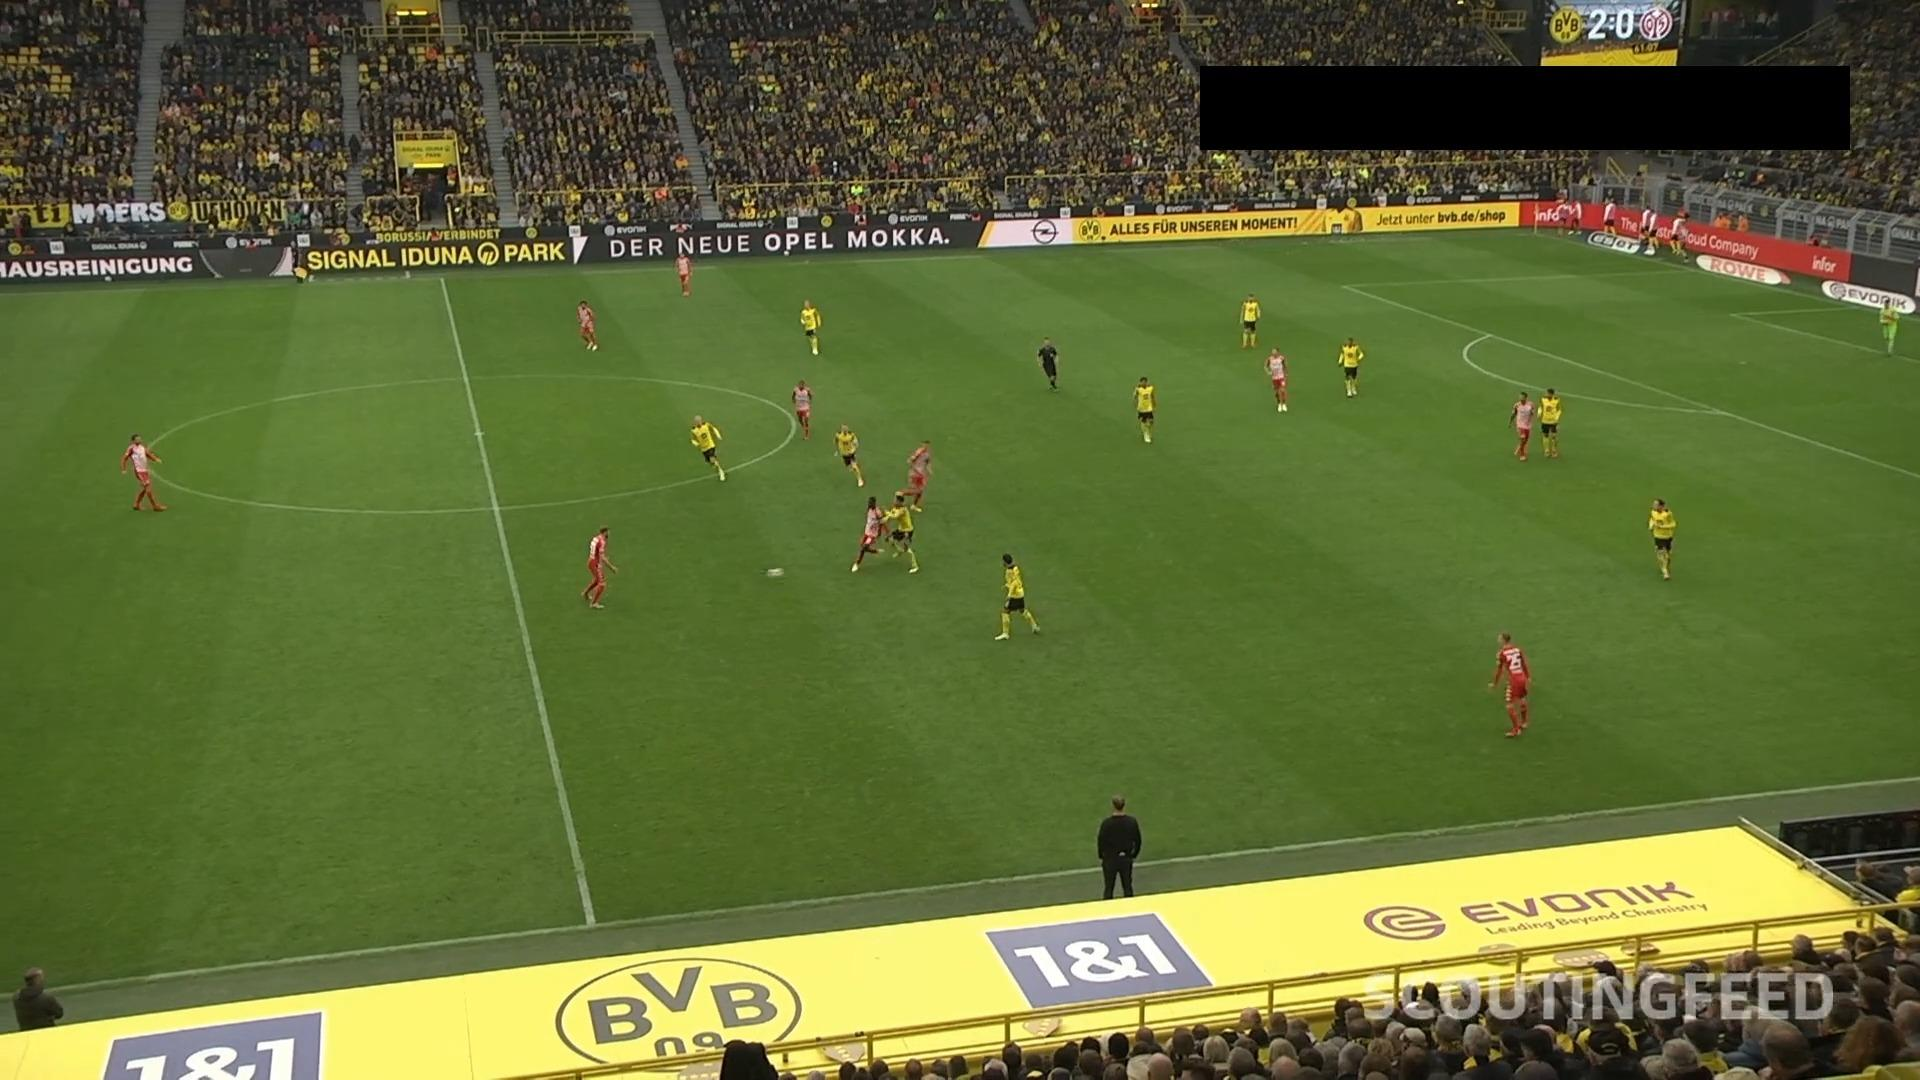ball: (764, 566, 785, 580)
